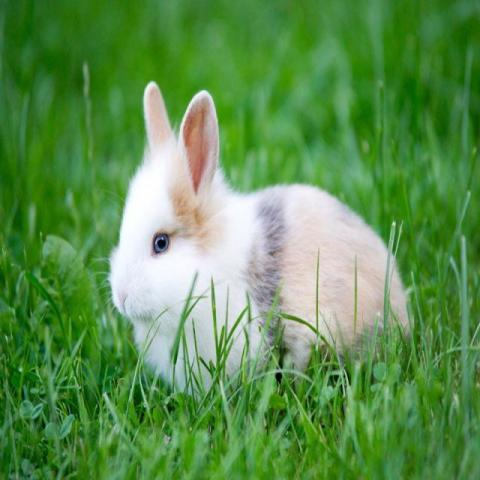small_animal: (104, 80, 414, 400)
